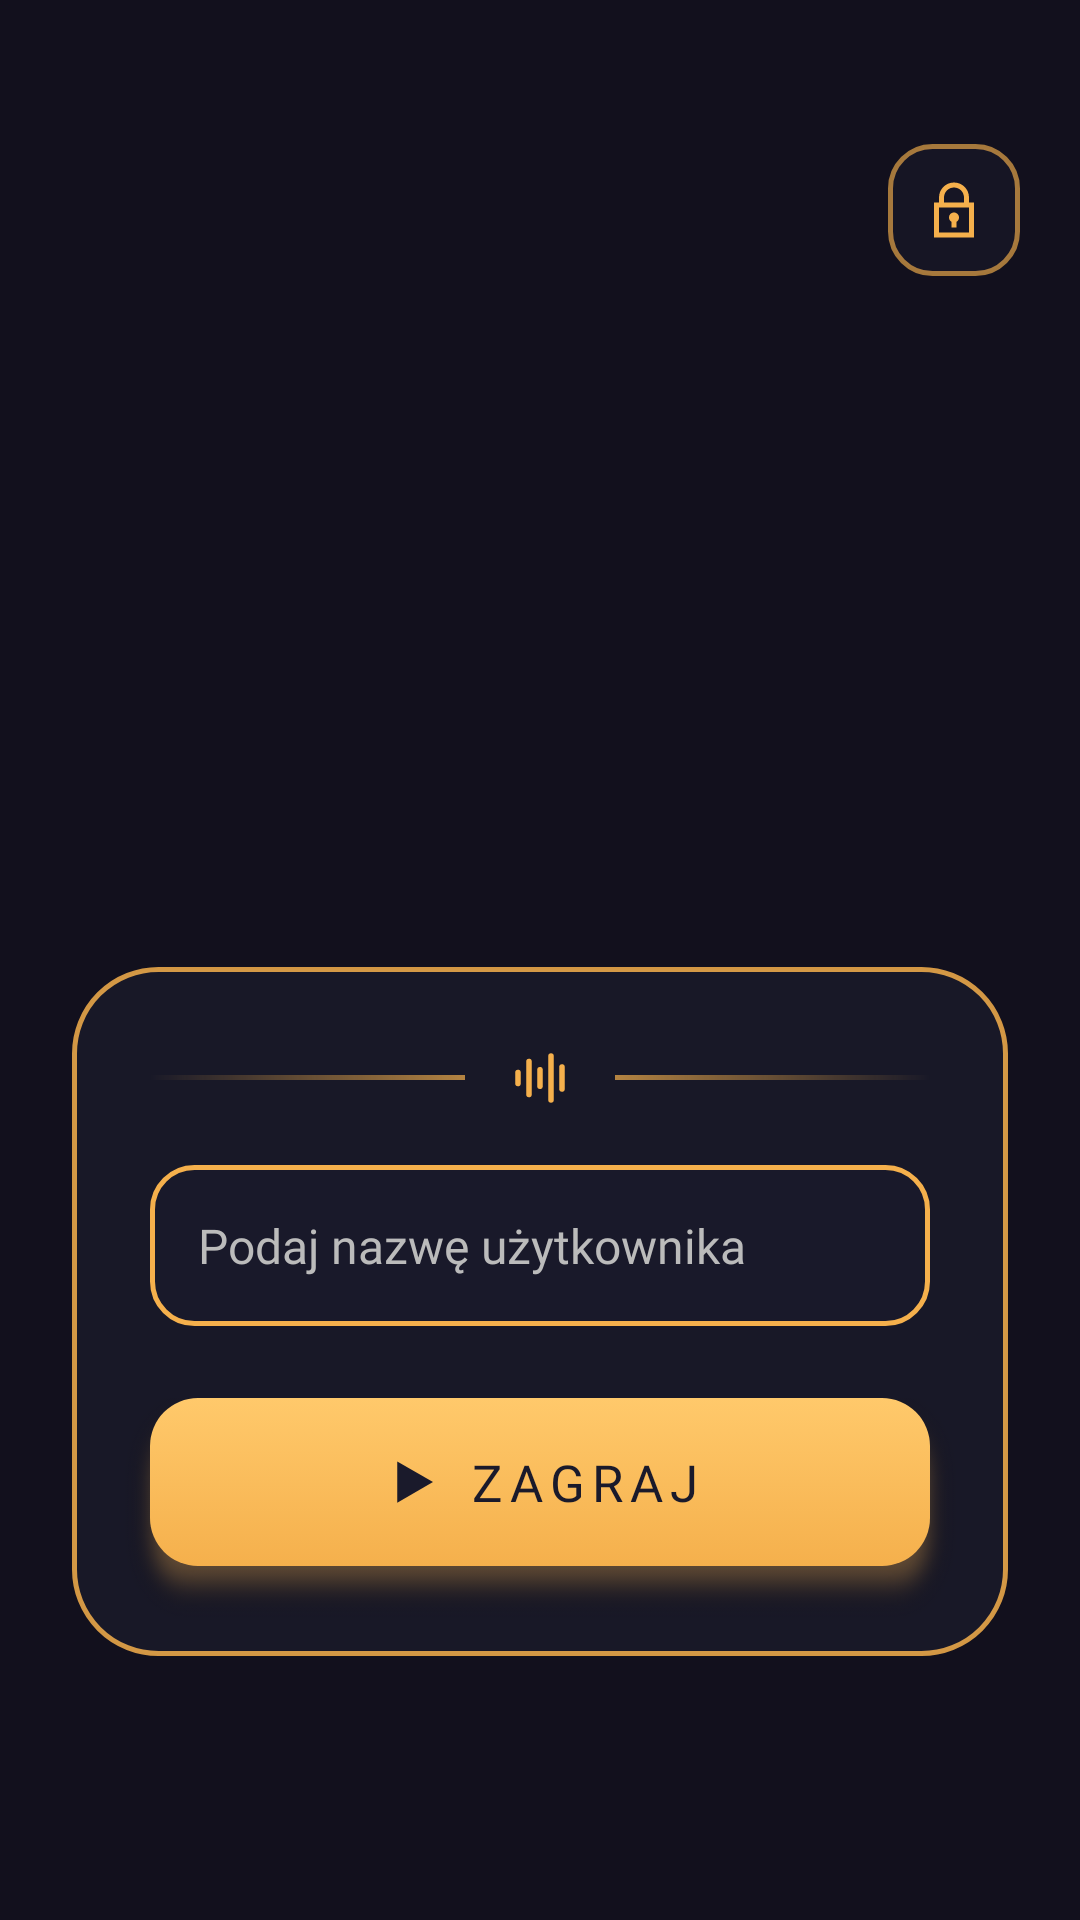

Where to tap for icons on this 1080px x 1920px app screen, as point (x, y):
admin lock: point (954, 210)
equalizer: point (540, 1078)
